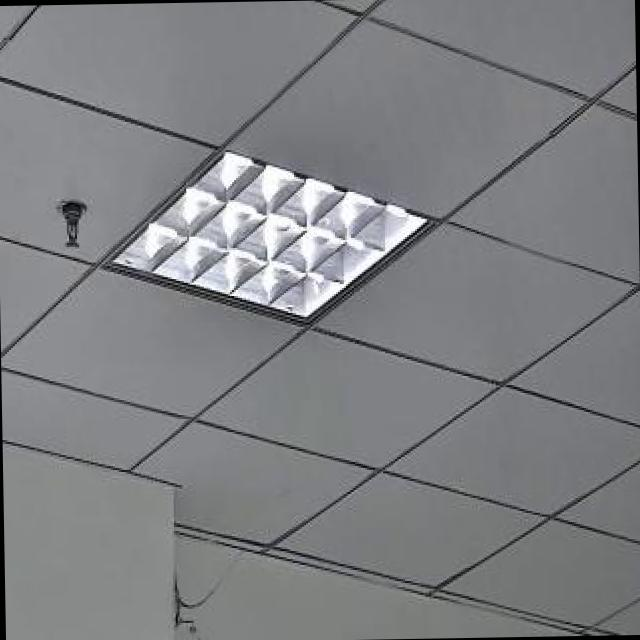Guns: (109, 634, 209, 640)
